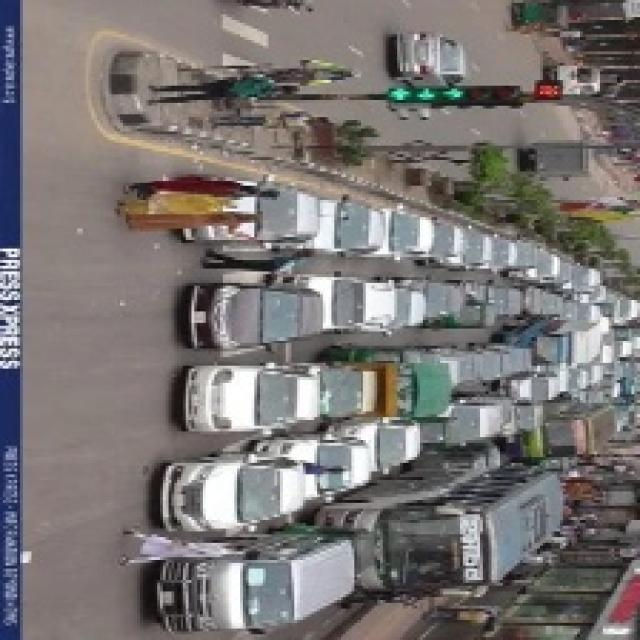car: (151, 534, 340, 635), (151, 453, 307, 533), (181, 279, 316, 355), (175, 365, 319, 434), (206, 182, 311, 248), (274, 437, 366, 497), (304, 276, 402, 332), (304, 196, 387, 260), (386, 34, 474, 91), (344, 418, 421, 474), (379, 204, 437, 260), (404, 277, 463, 324), (505, 368, 569, 407), (427, 234, 496, 270), (505, 245, 562, 282), (547, 62, 605, 98), (517, 286, 572, 319)
